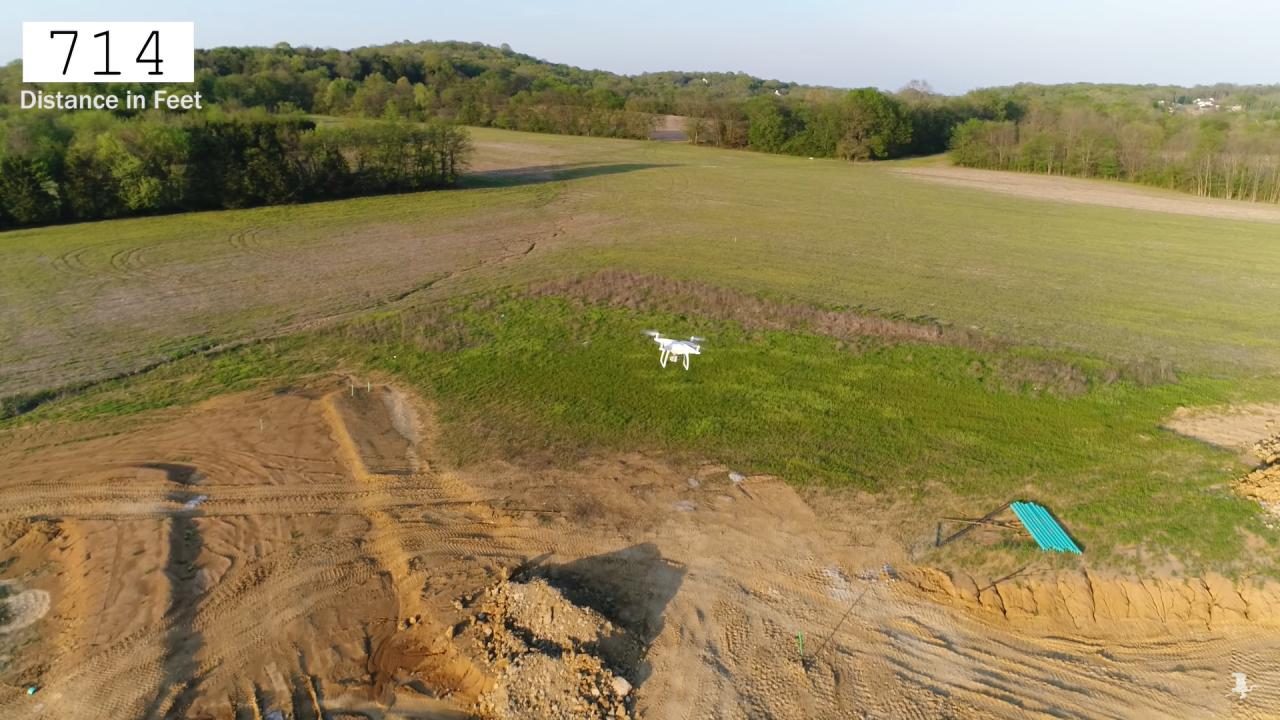Drone: (634, 318, 718, 382)
